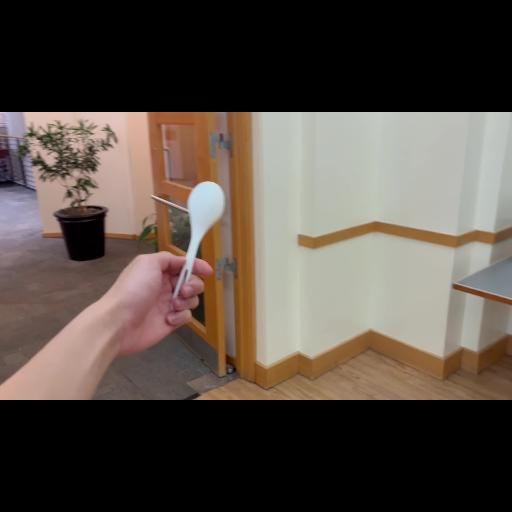utensil: (170, 178, 230, 308)
